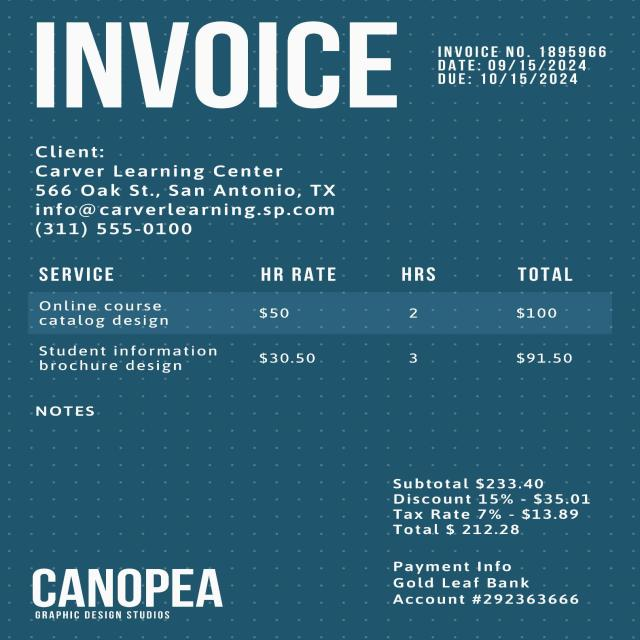paragraph: (33, 20, 410, 111), (30, 144, 344, 242), (25, 565, 235, 626), (385, 478, 601, 537), (387, 556, 591, 606), (426, 41, 610, 90), (35, 405, 96, 419)
table: (32, 264, 622, 386)
